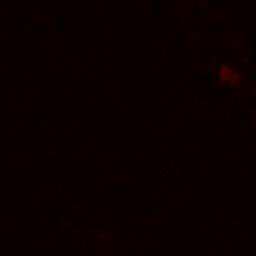debris: (216, 61, 243, 88)
